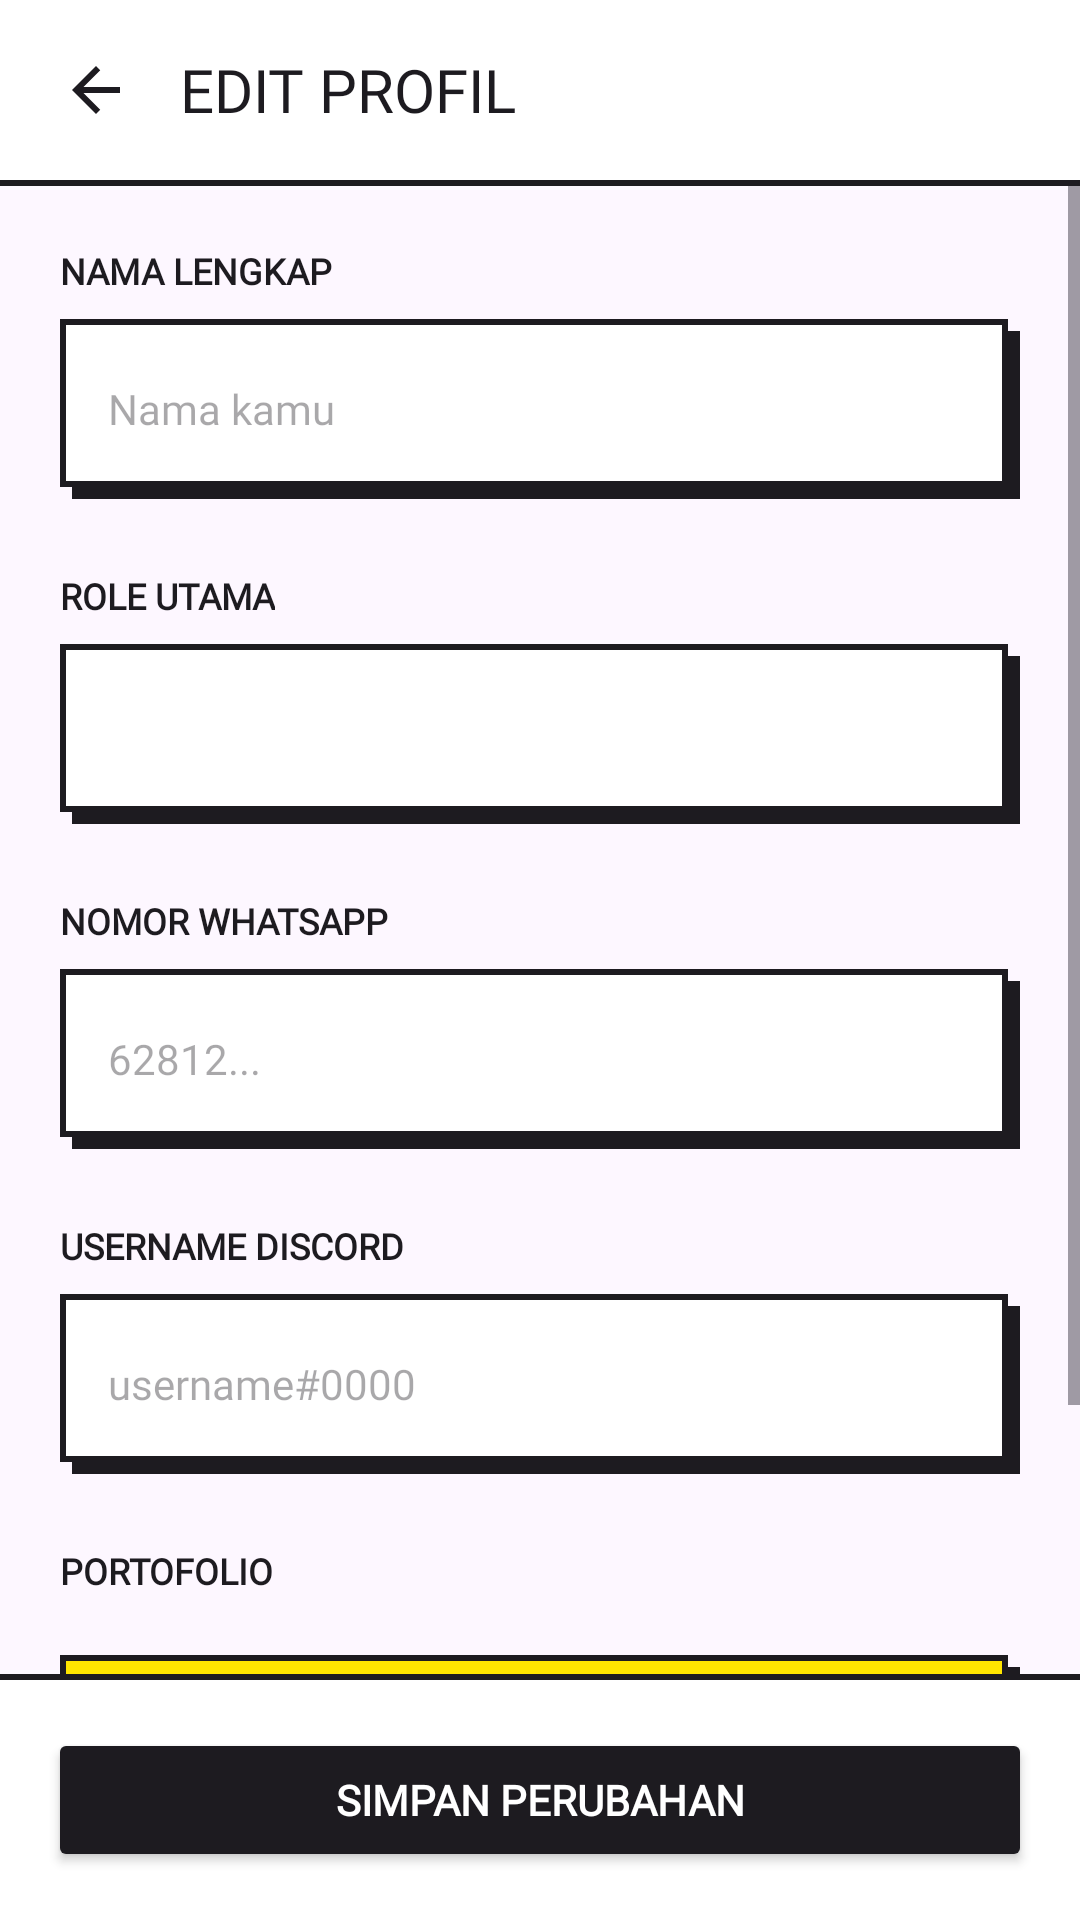

Icon bounding boxes for this 1080px×1920px phone screenshot, format (x1, y1, x2, y2):
back: (72, 66, 120, 114)
